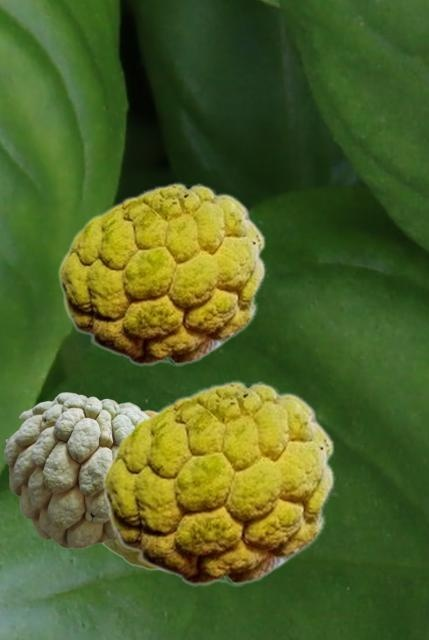atis: (101, 380, 334, 585), (57, 182, 265, 365), (4, 392, 147, 547), (101, 409, 157, 570)
